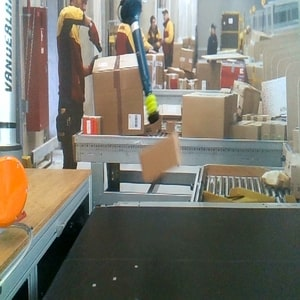box: (138, 133, 183, 184)
